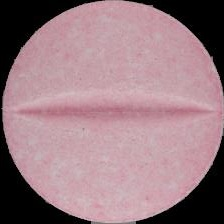51079-958: (0, 0, 224, 224)
